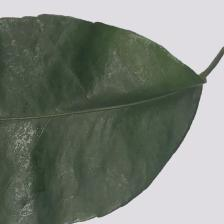healthy: (2, 20, 189, 224)
